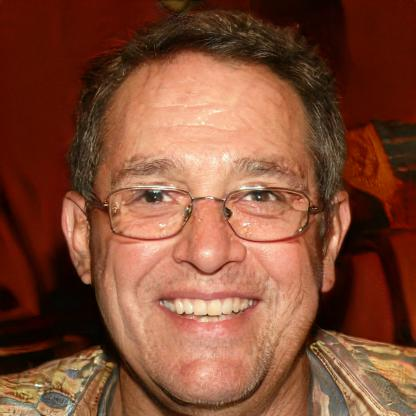glasses: (98, 176, 316, 246)
